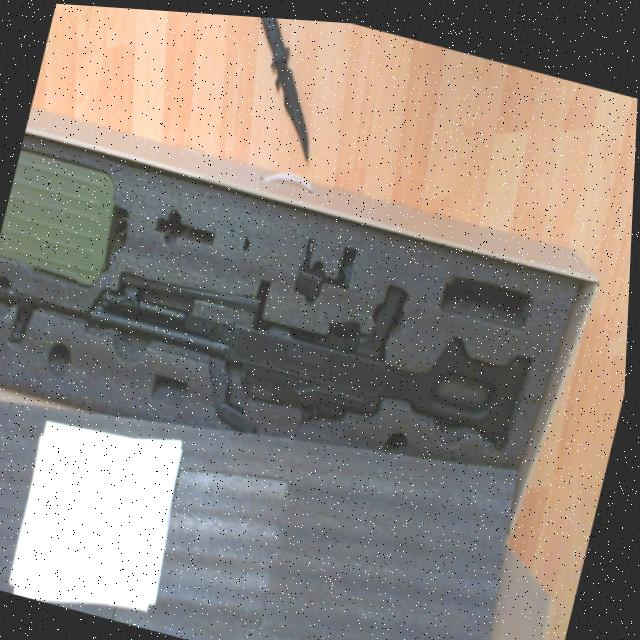firearm: (0, 183, 545, 467)
knife: (211, 11, 347, 164)
